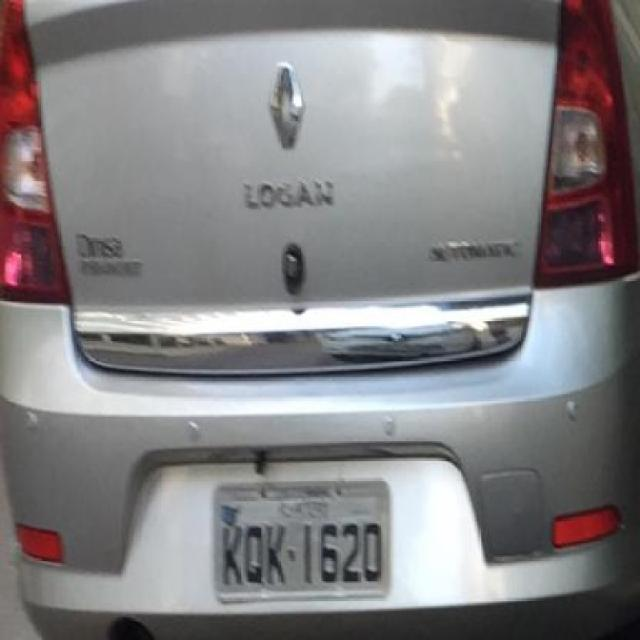old_plate: (207, 474, 401, 608)
